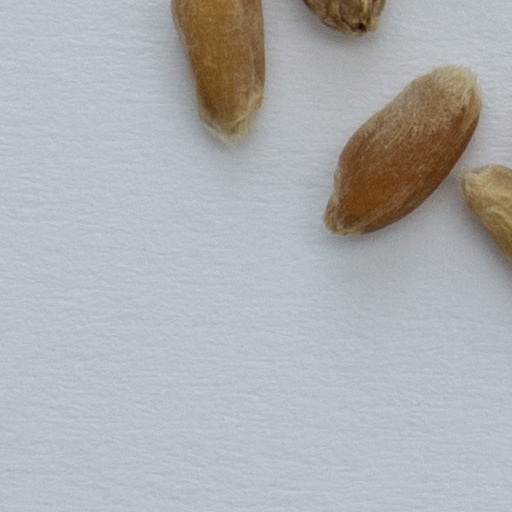Wheat-grain-poly: (301, 0, 383, 37)
